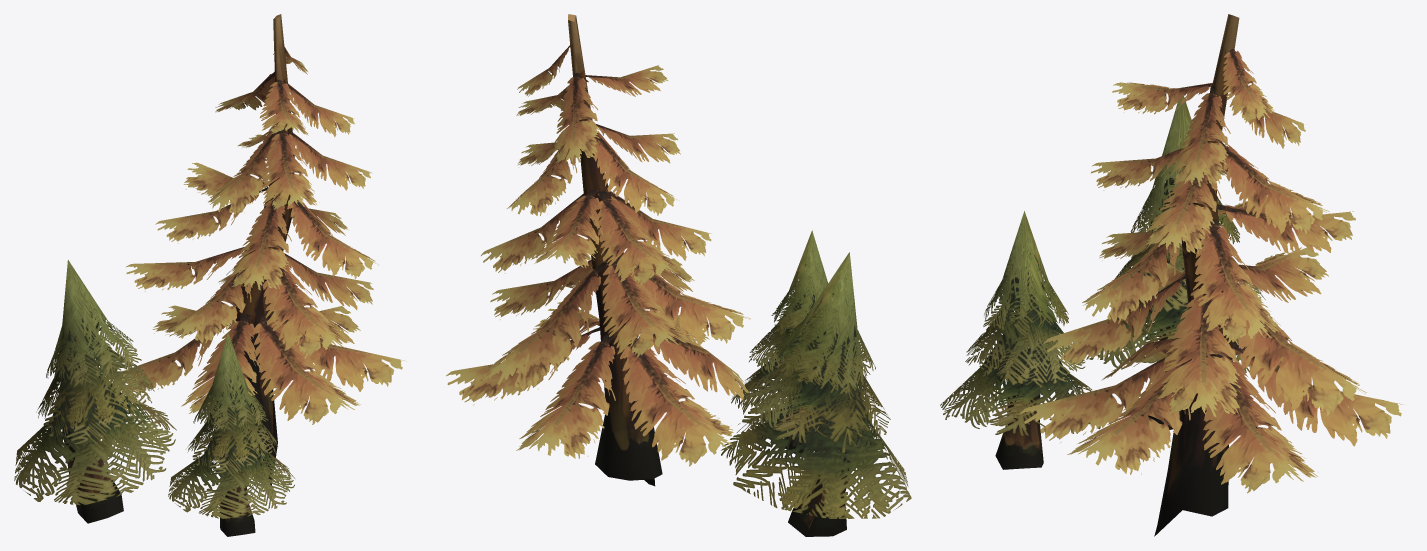
File: Trees.FBX
3 views of the same model, side by side, from view 1: azimuth 30°, elevation 25°; view 2: azimuth 150°, elevation 25°; view 3: azimuth 270°, elevation 25° (orthographic). The views are drawn at different scales.
Visible parts, largest first — view 1: Tree001, Tree002, Tree003; view 2: Tree001, Tree002, Tree003; view 3: Tree001, Tree003, Tree002.
Boxes of the visible parts, left/top/right/bottom form: Tree001: left=109, top=14, right=406, bottom=485; Tree002: left=14, top=260, right=176, bottom=523; Tree003: left=168, top=332, right=294, bottom=536; Tree001: left=446, top=14, right=750, bottom=486; Tree002: left=721, top=252, right=911, bottom=536; Tree003: left=731, top=230, right=879, bottom=453; Tree001: left=1020, top=14, right=1403, bottom=536; Tree003: left=940, top=211, right=1100, bottom=469; Tree002: left=1081, top=95, right=1281, bottom=429.
Size of the model in its own units: 467 by 531 by 417.
